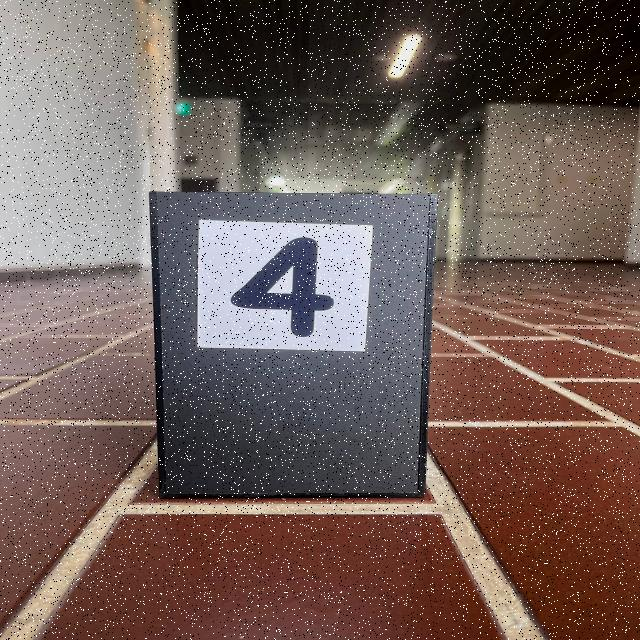four_id14: (199, 221, 369, 351)
